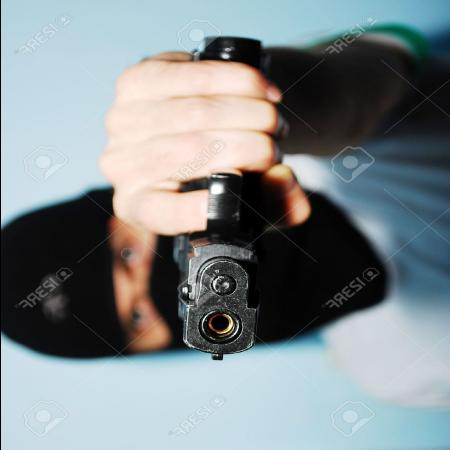Pistol: (150, 25, 280, 362)
